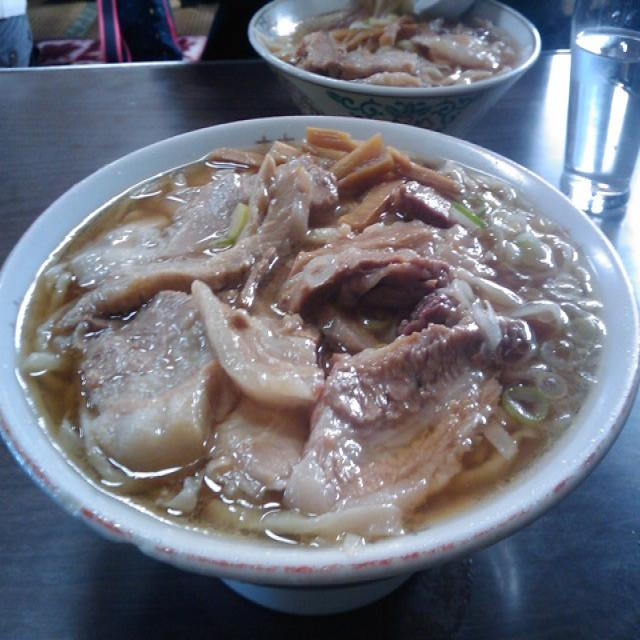面条主食: (28, 150, 604, 554)
